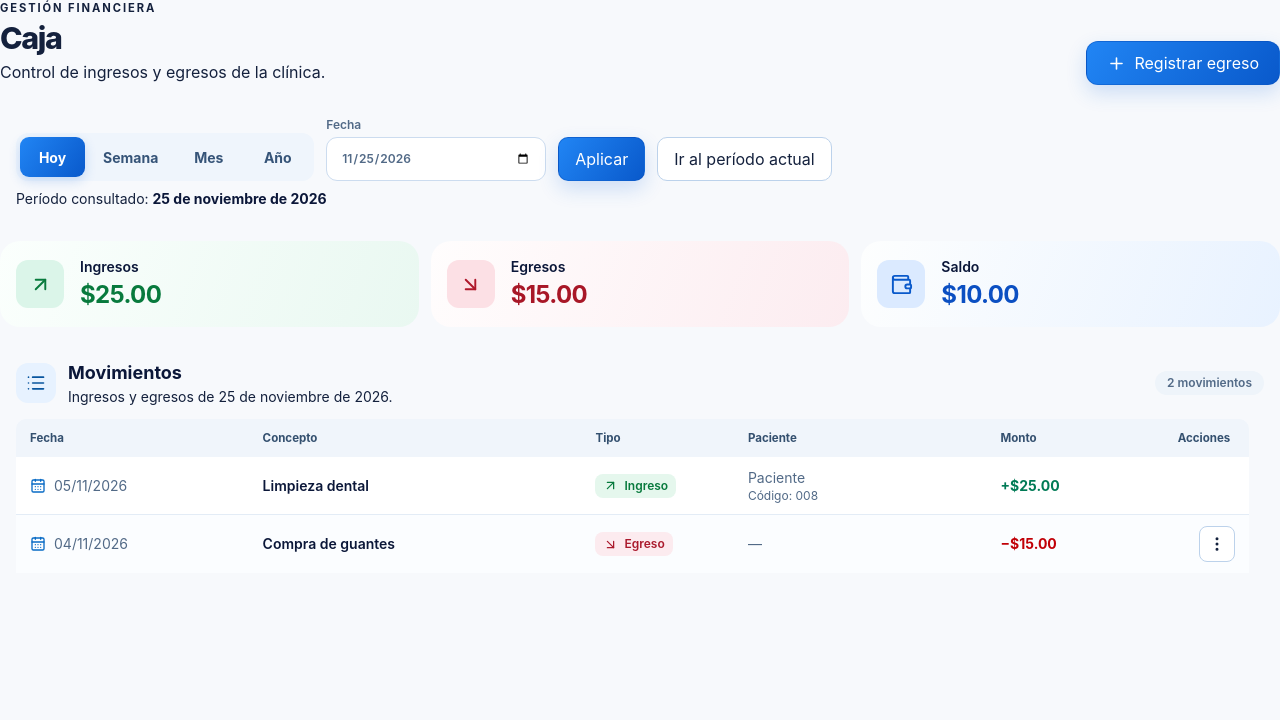
Test case: CashPage › keeps entered data on a write error and prevents duplicate submissions
The width and height of the screenshot is (1280, 720).
Expected: the text "Limpieza dental" is shown, [263,477,369,494]
Click the button "Registrar egreso": (1183, 63) [1086,41,1279,85]
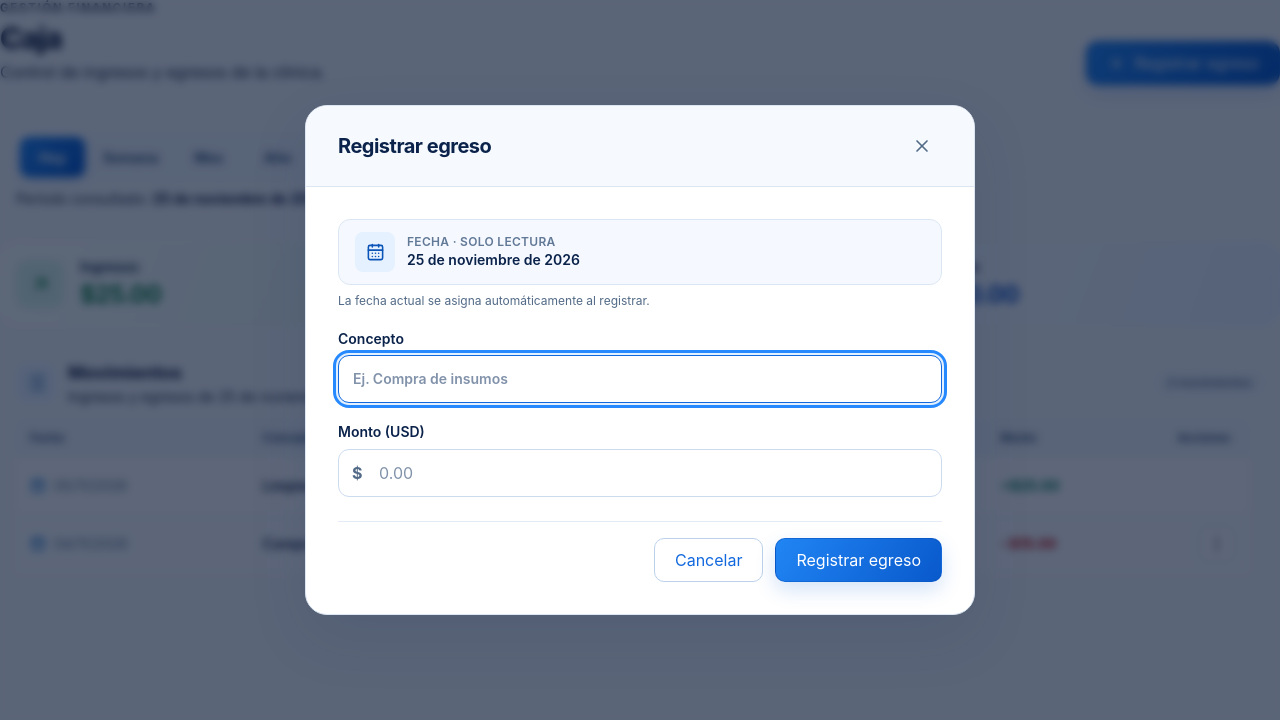
In the field labelled "Concepto": (640, 379) [338,355,942,403], type "Guantes"
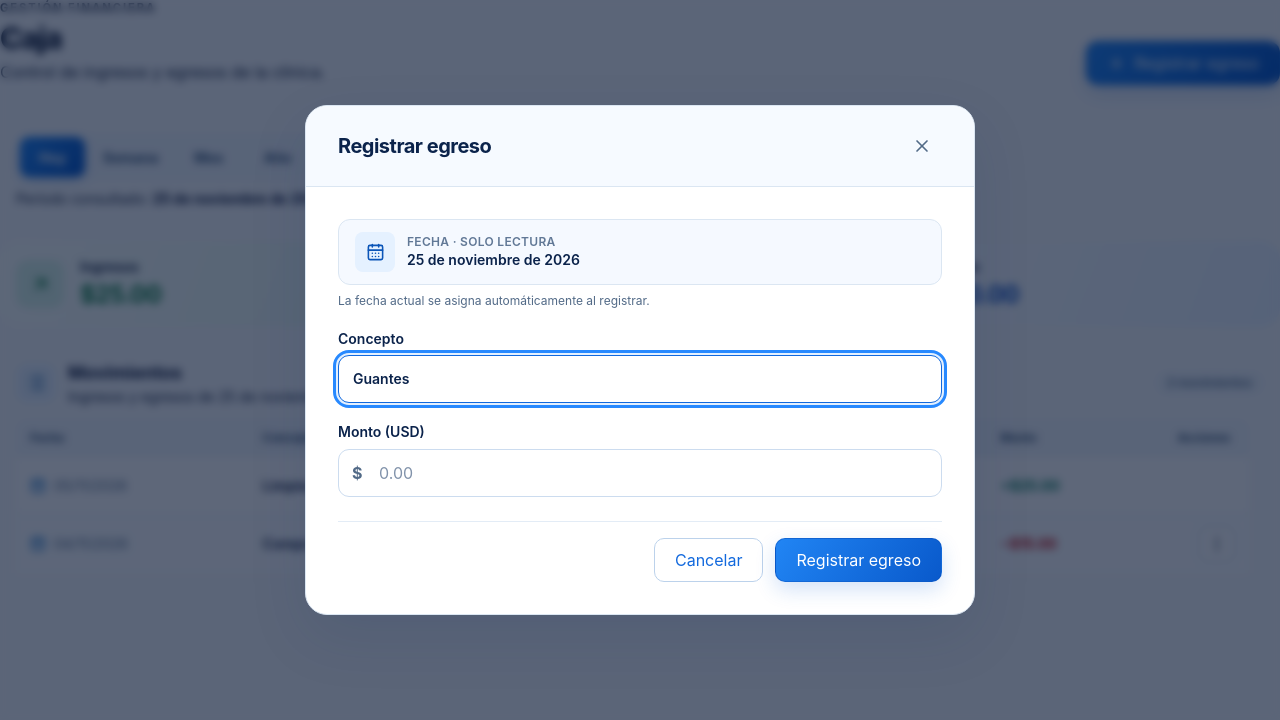
In the number field labelled "Monto (USD)": (640, 473) [338,449,942,497], type "15"
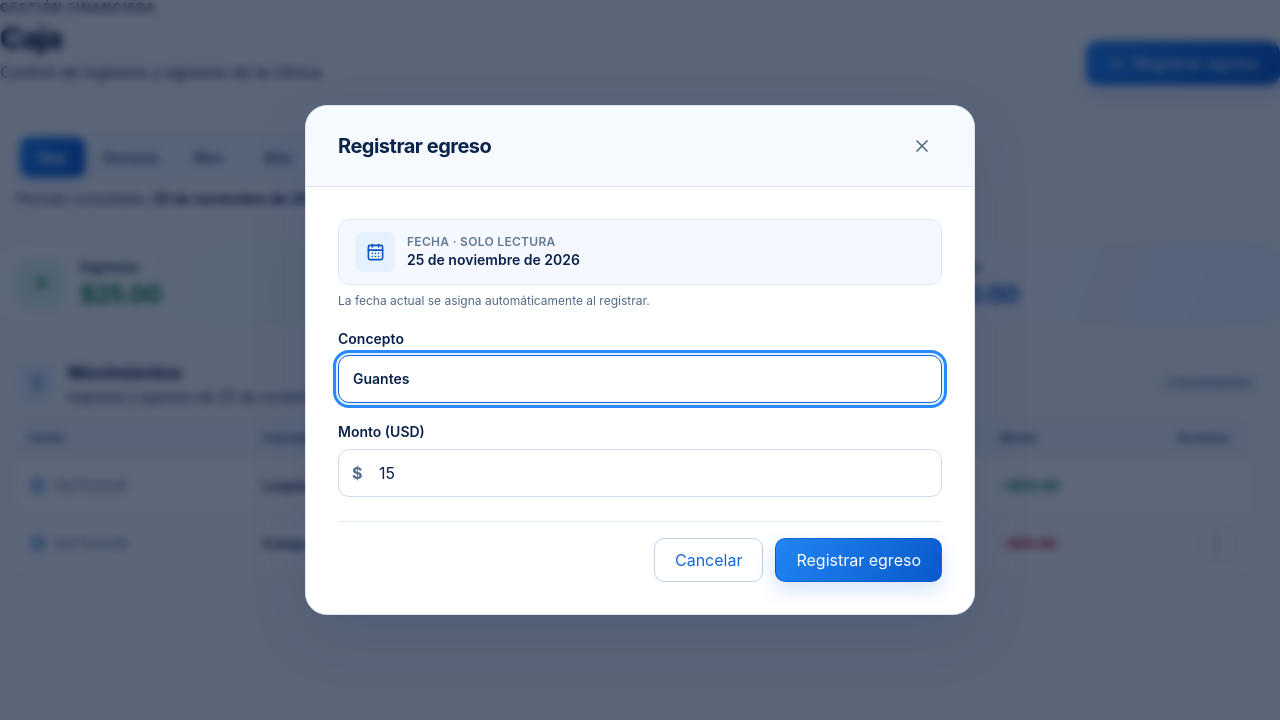
Submit the form named "Datos del egreso", box [338,219,942,582]
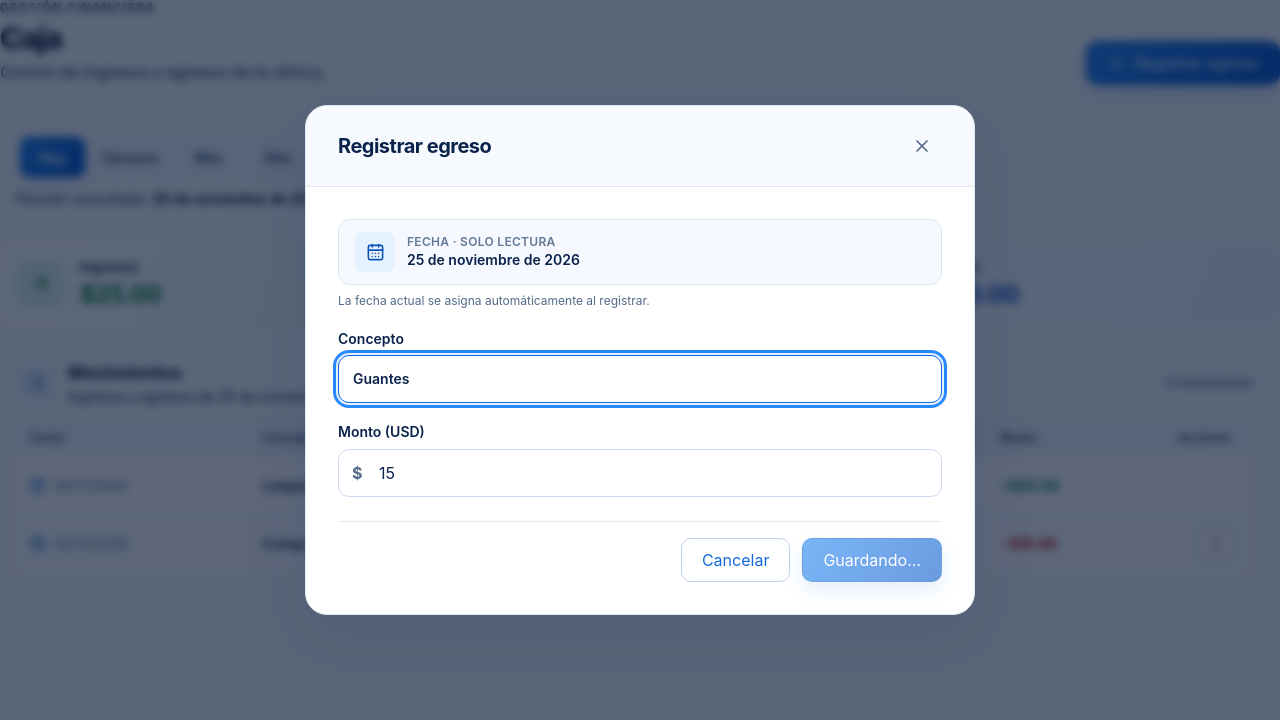
Submit the form named "Datos del egreso", box [338,219,942,582]
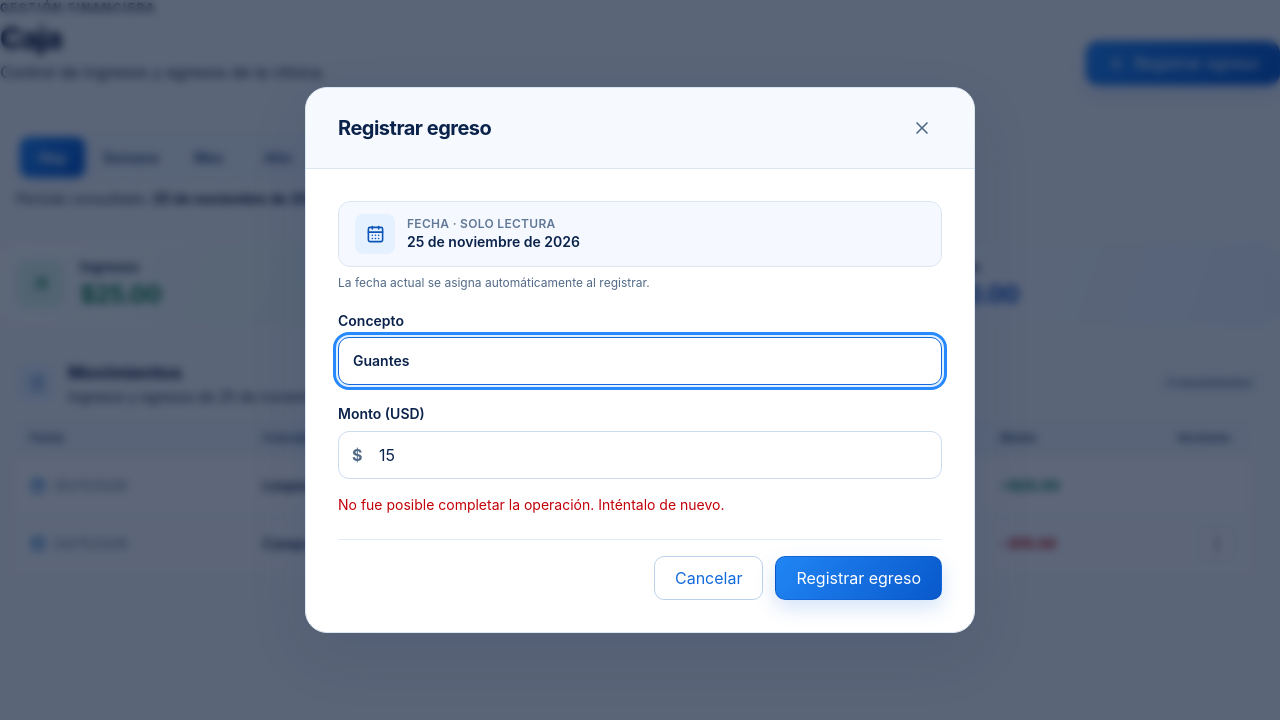
Now the message shows "No fue posible completar la operación", box [338,496,724,513]
